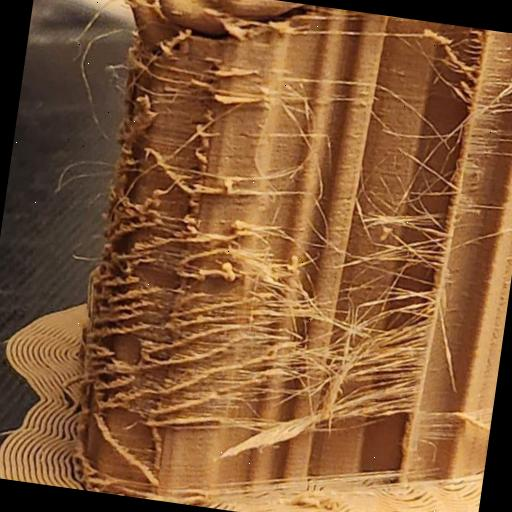stringing: (214, 266, 443, 436), (358, 120, 474, 275)
